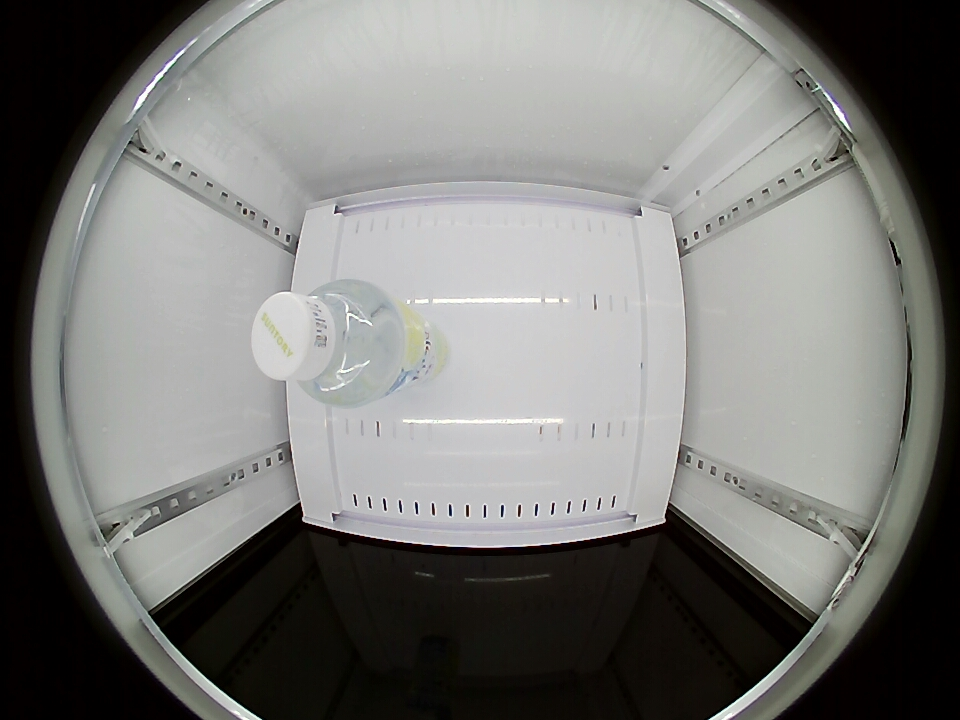qinningshui: (252, 281, 400, 407)
